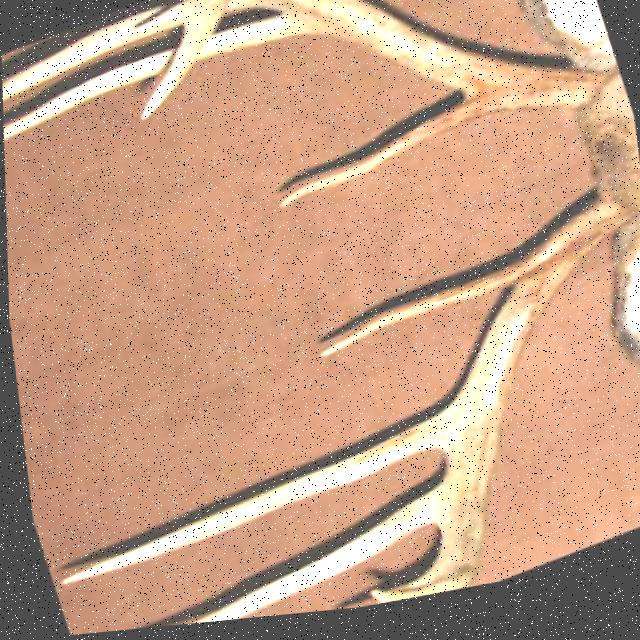L-F: (363, 214, 630, 611)
L-G1: (312, 269, 518, 364)
L-G2: (54, 418, 442, 588)
L-G3: (182, 500, 430, 627)
R-F: (137, 0, 601, 124)
R-G1: (276, 111, 491, 216)
